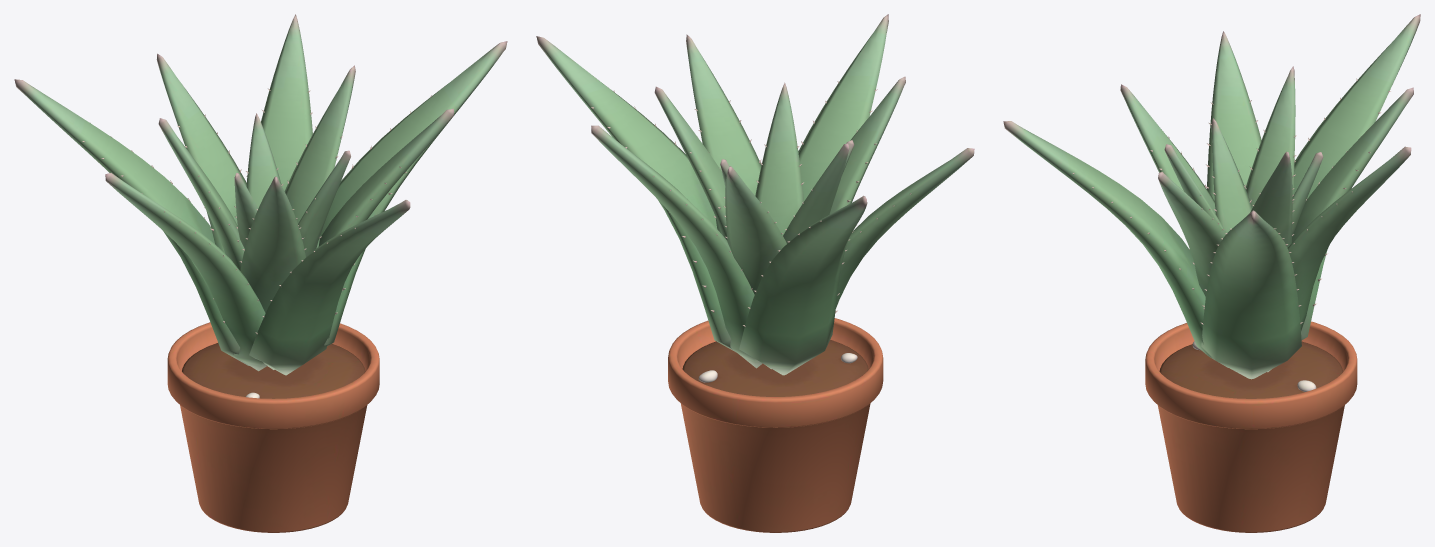
File: aloe-vera.glb
3 renders of one model, left to right at view 1: azimuth 30°, elevation 25°; view 2: azimuth 150°, elevation 25°; view 3: azimuth 270°, elevation 25°, orthographic.
Visible parts, largest first — view 1: aloe-vera_body; view 2: aloe-vera_body; view 3: aloe-vera_body.
Boxes of the visible parts, bbox=[...] form: aloe-vera_body: bbox=[14, 14, 507, 532]; aloe-vera_body: bbox=[536, 14, 974, 532]; aloe-vera_body: bbox=[1003, 14, 1420, 532].
Bounding box in the file's own units: 0.5268 × 0.4882 × 0.4566.
Materials: 1 (1 with a texture image).
